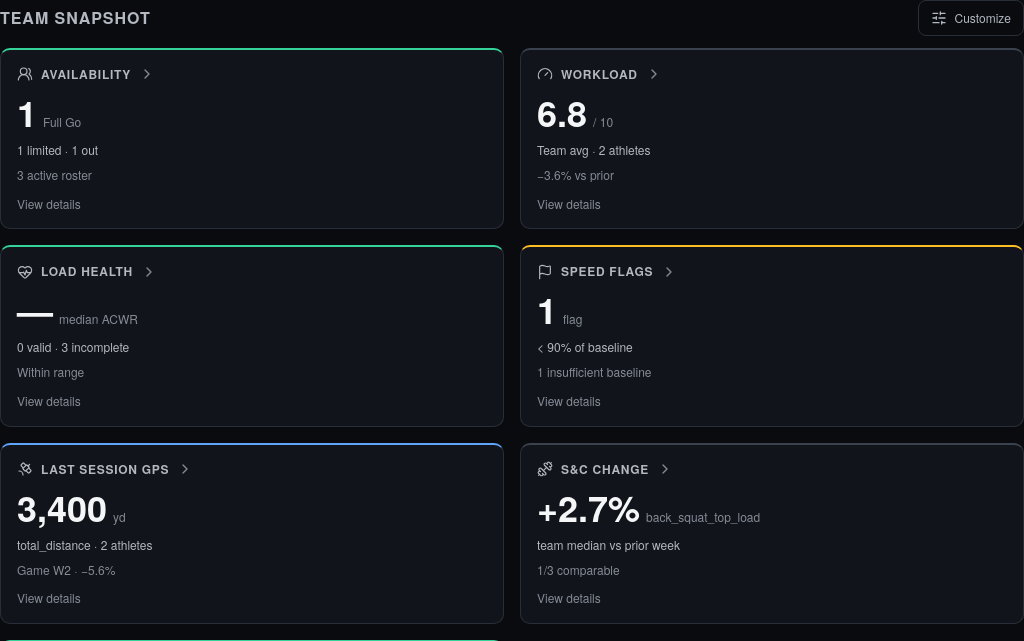
Test case: clicking the Availability tile opens its drill-down drawer
This screenshot has width=1024, height=641.
Expected: the heading "Team Snapshot" is shown, [0, 7, 151, 29]
Click the button "Availability": (86, 74) [0, 48, 504, 229]
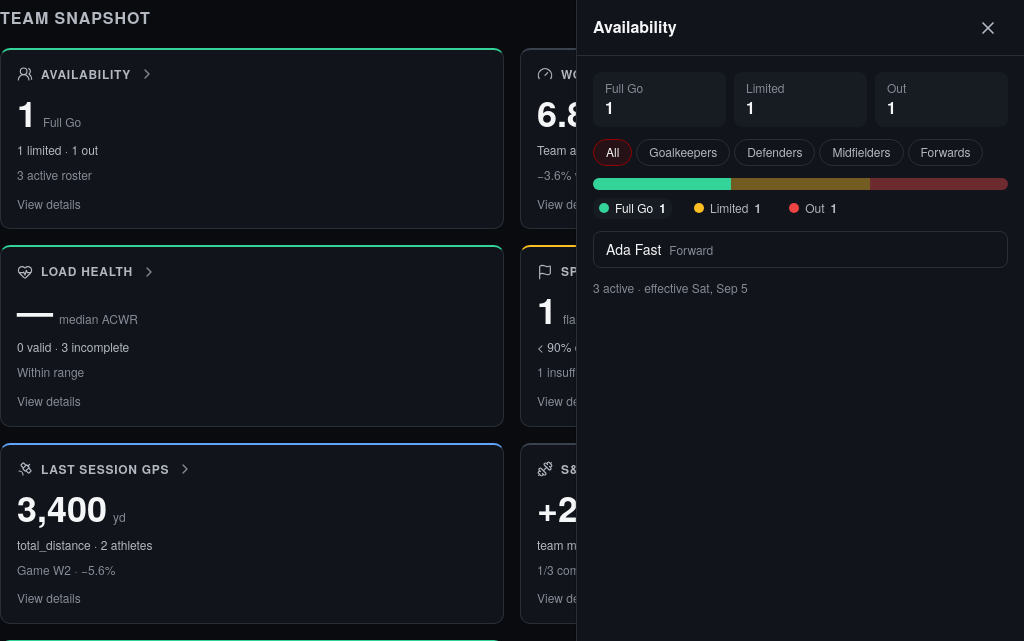
// roster breakdown + status filter reveal-in-place inside the drawer
Click the button "Limited 1": (728, 208) [688, 198, 767, 219]
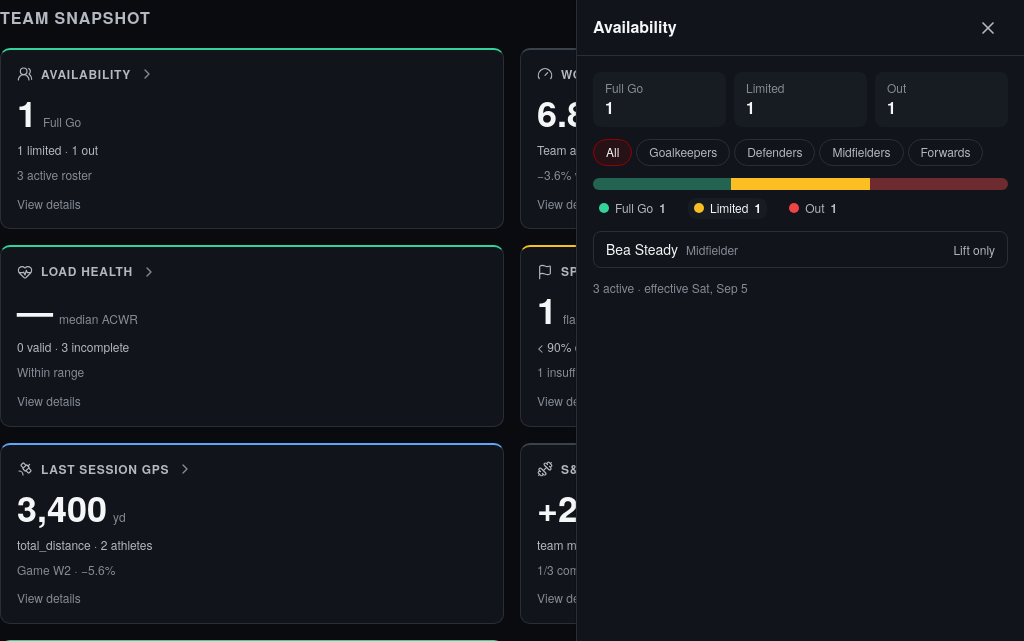
Result: the text "Lift only" is shown at [953, 242, 995, 259]
